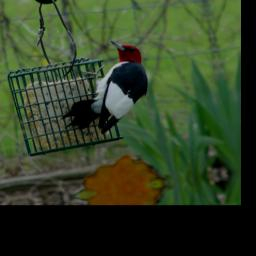Woodpecker: (46, 36, 157, 140)
